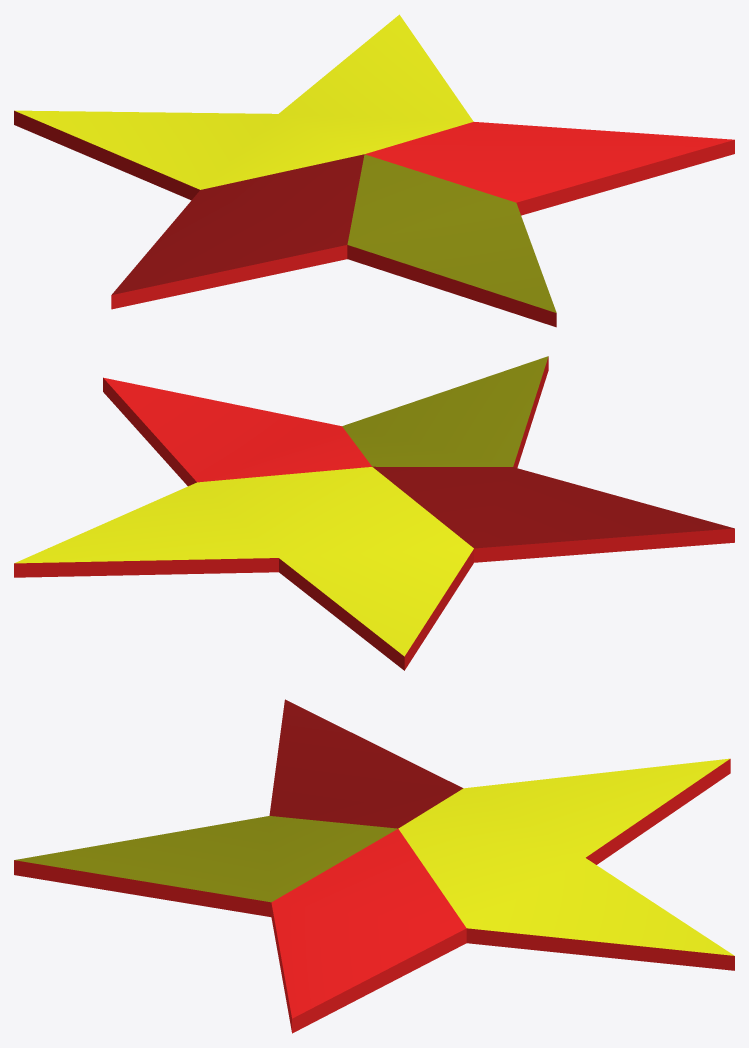
The model's file is China - Yellow_Red Star Confetti 1.FBX.
3 views of the same model, one above another, from view 1: azimuth 30°, elevation 25°; view 2: azimuth 150°, elevation 25°; view 3: azimuth 270°, elevation 25° (orthographic). The views are drawn at different scales.
Parts seen in each view (by area): view 1: Star002; view 2: Star002; view 3: Star002.
Boxes of the visible parts, box(x1,y1,x2,y2) form: Star002: box(14, 14, 734, 327); Star002: box(14, 356, 734, 670); Star002: box(14, 699, 734, 1033).
Bounding box in the file's own units: 45.94 × 43.83 × 2.83.
